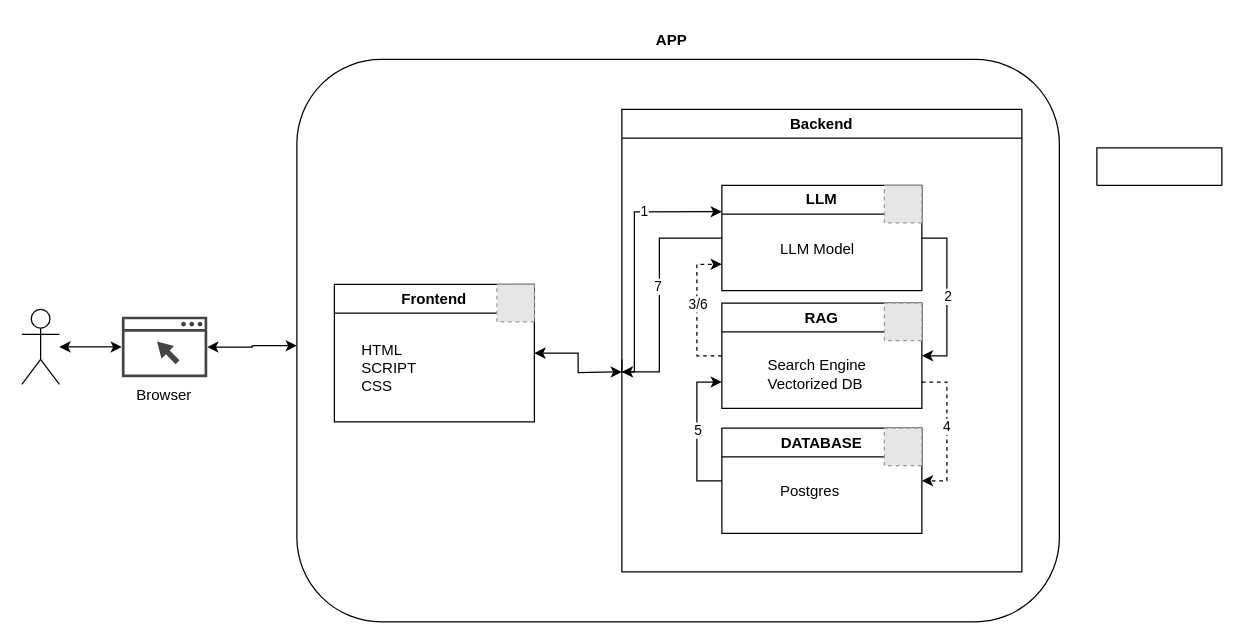
Image size: 1244x644. Some labels were removed from this diagram. Grey dashed boxes stand in for pictures. The shapes that lost their labels are listed below. From the top down, each one's centre as x and y in pixels, then its label:
At (x=1159, y=166): "Backend Flow".
At (x=40, y=346): "User".
